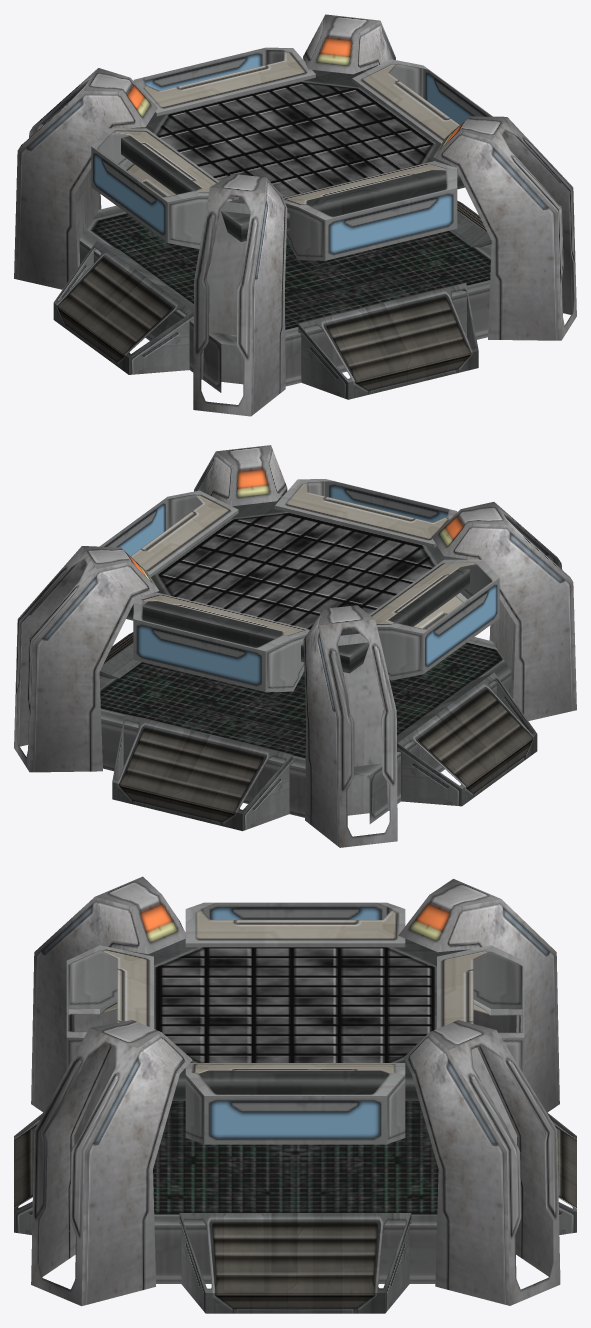
Rendered from doodad_aegis_panel.fbx.
3 renders of one model, top to bottom at view 1: azimuth 30°, elevation 25°; view 2: azimuth 150°, elevation 25°; view 3: azimuth 270°, elevation 25°, orthographic. The views are drawn at different scales.
Parts seen in each view (by area): view 1: body; view 2: body; view 3: body.
Boxes of the visible parts, bbox=[...] form: body: bbox=[14, 14, 576, 416]; body: bbox=[14, 445, 576, 847]; body: bbox=[14, 876, 576, 1313].
Size of the model in its own units: 0.9615 by 0.4355 by 0.9615.
Materials: 1 (1 with a texture image).
